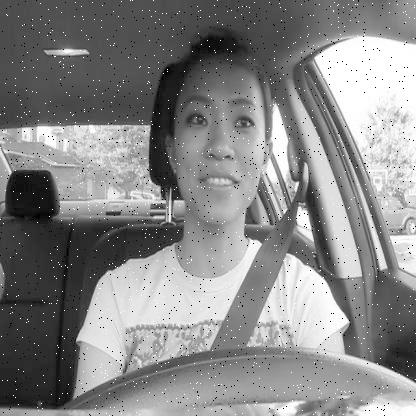seatbelt: (154, 24, 320, 348)
